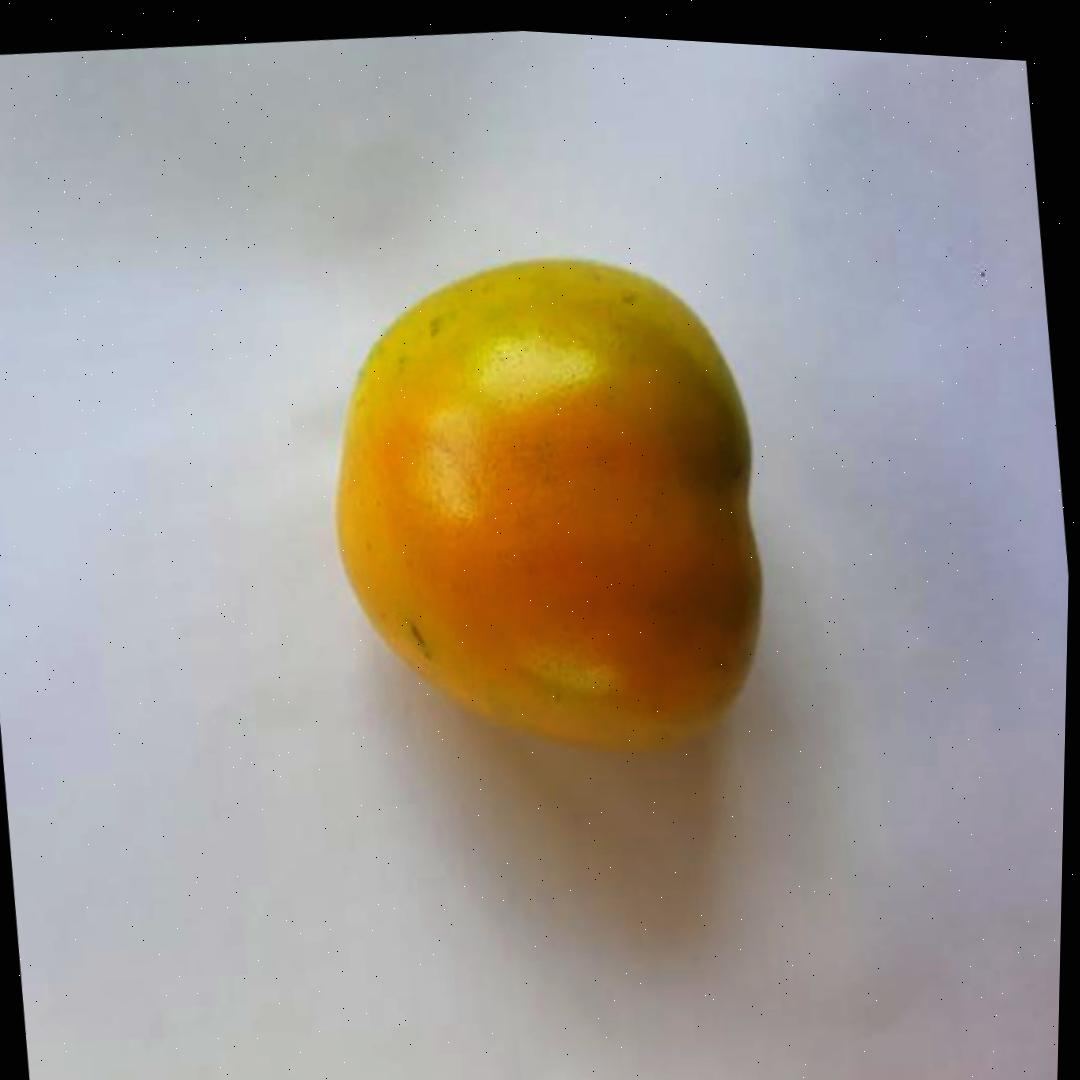setengah_matang: (299, 219, 788, 792)
